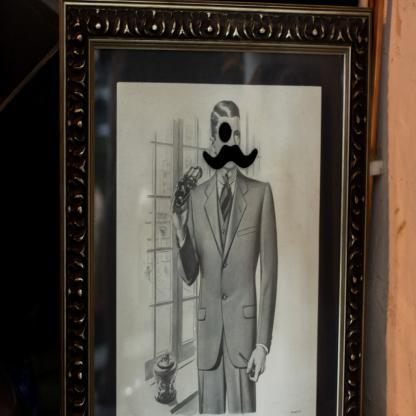Picture-frame: (59, 1, 376, 416)
